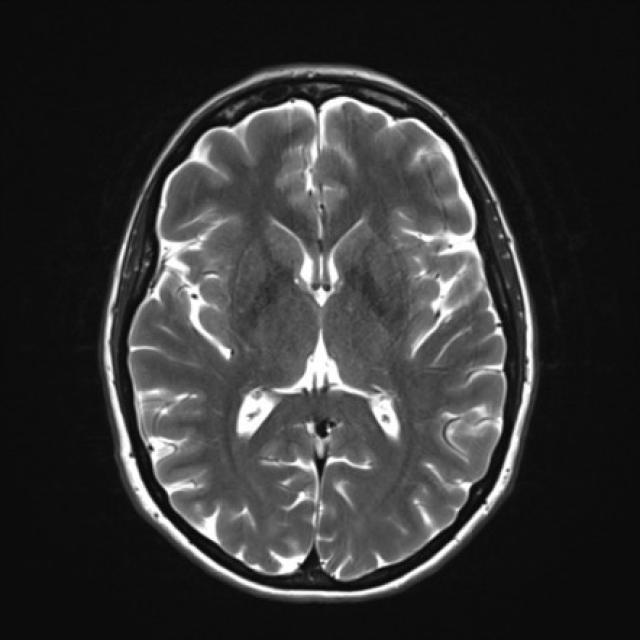No_Tumor: (101, 66, 535, 600)
